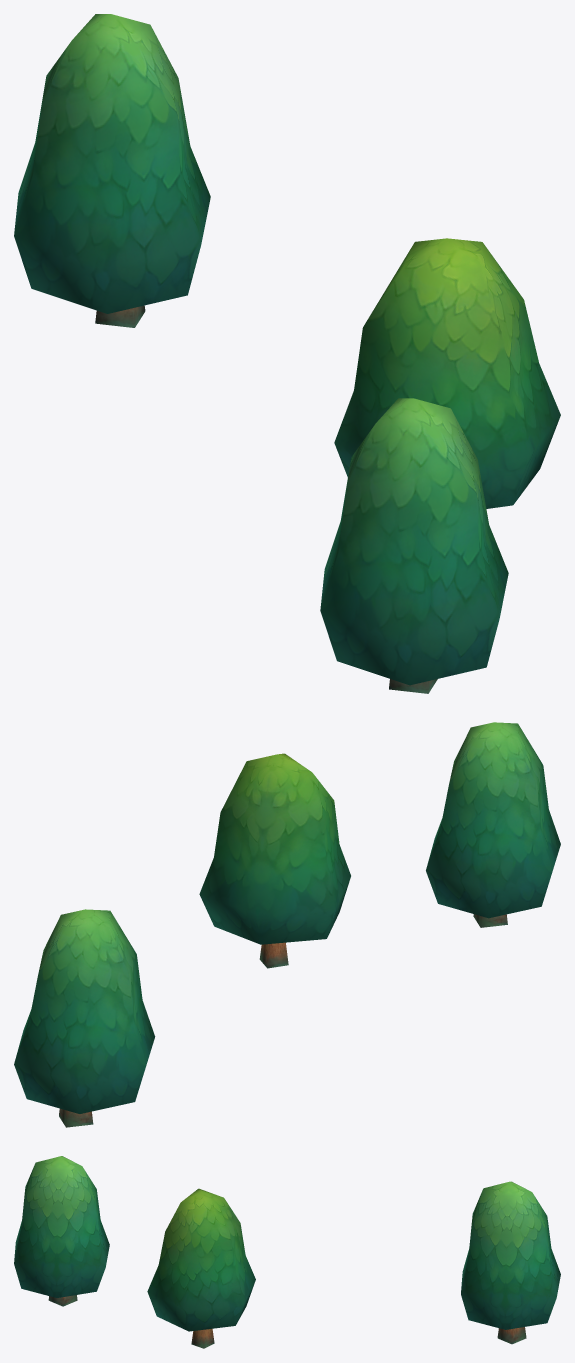
Rendered from SoilGradeA02_07_Tree.FBX.
The picture shows the model from 3 angles, top to bottom: view 1: azimuth 30°, elevation 25°; view 2: azimuth 150°, elevation 25°; view 3: azimuth 270°, elevation 25°; orthographic projection. The views are drawn at different scales.
Visible parts, largest first — view 1: SoilGradeA02_07_Tree; view 2: SoilGradeA02_07_Tree; view 3: SoilGradeA02_07_Tree.
Boxes of the visible parts, box(x1,y1,x2,y2) form: SoilGradeA02_07_Tree: box(14, 14, 560, 693); SoilGradeA02_07_Tree: box(14, 722, 560, 1127); SoilGradeA02_07_Tree: box(14, 1156, 560, 1348).
Bounding box in the file's own units: 2.27 × 1.85 × 5.94.
